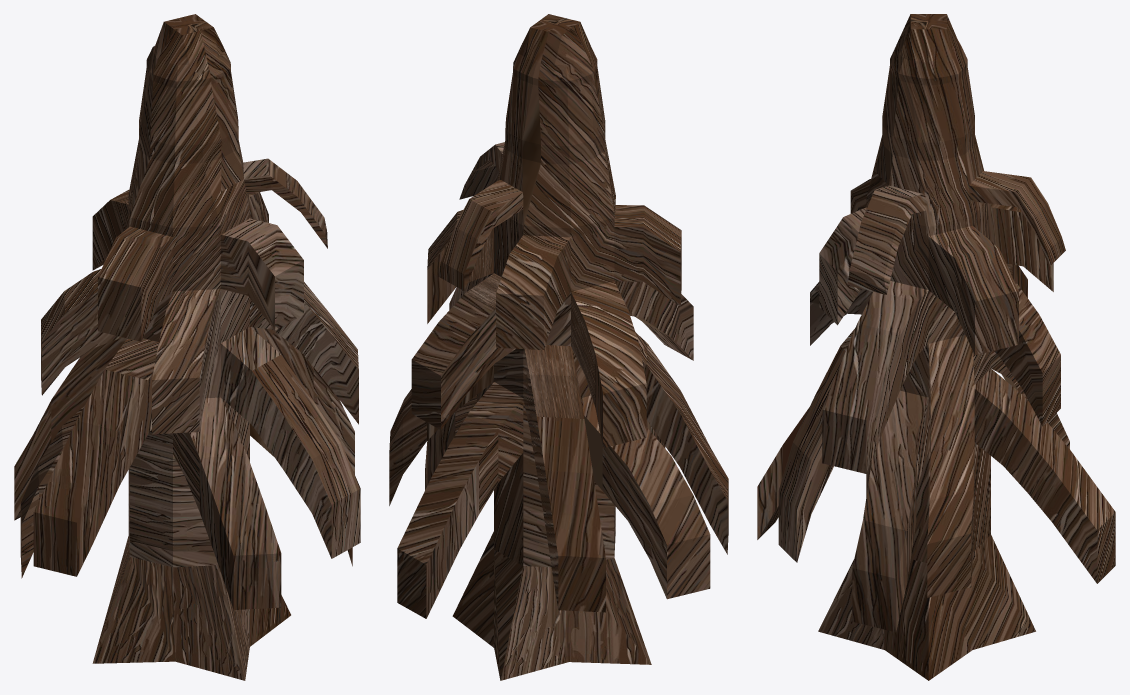
The model's file is pineDead.fbx.
3 renders of one model, left to right at view 1: azimuth 30°, elevation 25°; view 2: azimuth 150°, elevation 25°; view 3: azimuth 270°, elevation 25°, orthographic.
Visible parts, largest first — view 1: PineDead; view 2: PineDead; view 3: PineDead.
Part boxes in pixels (left/top/right/bottom): PineDead: left=14, top=14, right=360, bottom=680; PineDead: left=389, top=14, right=728, bottom=680; PineDead: left=757, top=14, right=1115, bottom=680.
Bounding box in the file's own units: 149 × 267 × 142.
Materials: 1 (1 with a texture image).
